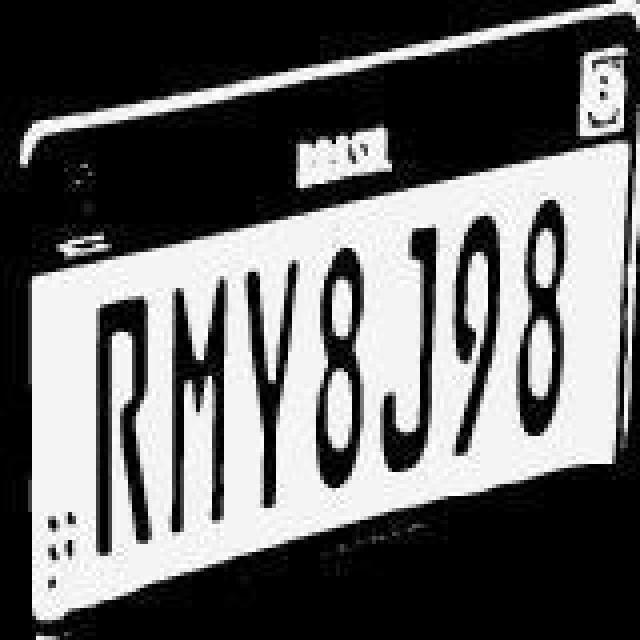8: (512, 178, 576, 454), (312, 240, 368, 504)
9: (450, 214, 510, 482)
J: (376, 220, 440, 484)
M: (168, 270, 232, 538)
R: (92, 290, 156, 566)
Y: (244, 248, 300, 512)
